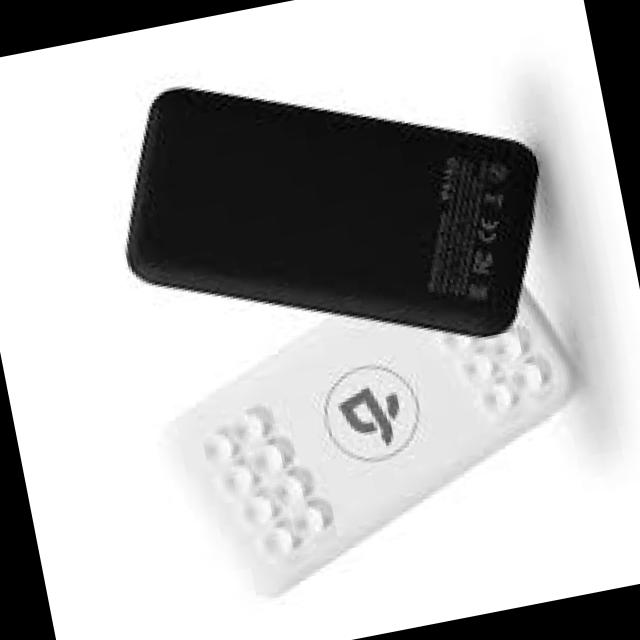portable-charger: (125, 203, 607, 620), (89, 16, 572, 404)
